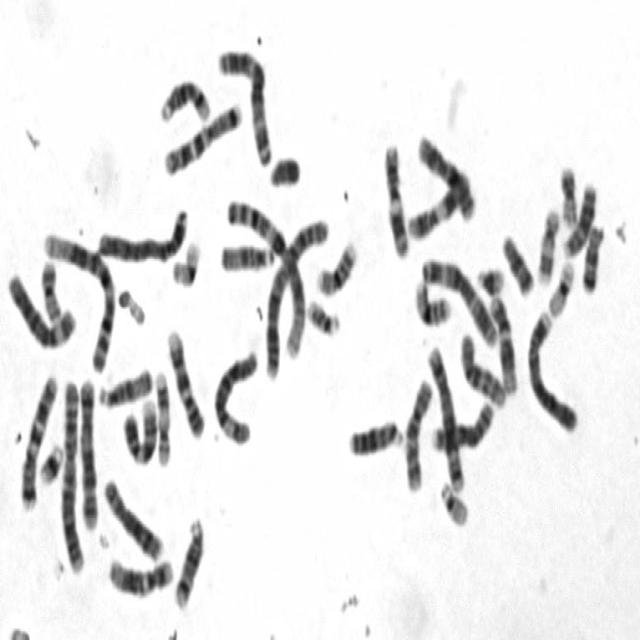A1: (222, 191, 308, 363), (38, 222, 118, 374)
A2: (261, 212, 329, 380), (58, 369, 88, 575)
A3: (416, 248, 500, 349), (214, 39, 275, 169)
B4: (523, 301, 580, 434), (94, 199, 190, 265)
B5: (423, 336, 466, 495), (76, 371, 100, 530)
C10: (456, 325, 508, 410), (400, 369, 435, 495)
C11: (404, 167, 474, 243), (380, 136, 412, 260)
C12: (105, 548, 177, 599), (486, 289, 519, 396)
C6: (3, 264, 78, 352), (210, 340, 260, 448)
C7: (160, 95, 244, 178), (16, 366, 60, 512)
C8: (100, 468, 167, 564), (429, 395, 496, 453)
C9: (163, 322, 205, 440), (119, 390, 158, 467)
D13: (559, 175, 598, 259), (344, 410, 404, 459)
D14: (172, 509, 206, 610), (156, 71, 212, 126)
D15: (96, 358, 155, 409), (216, 235, 276, 272)
E16: (313, 232, 360, 298), (410, 271, 453, 328)
E17: (533, 200, 562, 288), (152, 364, 173, 468)
E18: (498, 224, 536, 298), (579, 215, 607, 295)
F19: (544, 252, 576, 320), (168, 234, 202, 289)
F20: (37, 252, 63, 326), (556, 157, 580, 229)
G21: (36, 436, 65, 486), (473, 258, 506, 296)
G22: (436, 473, 472, 528), (303, 291, 343, 337)
X: (414, 126, 476, 225)
Y: (265, 148, 302, 190)
